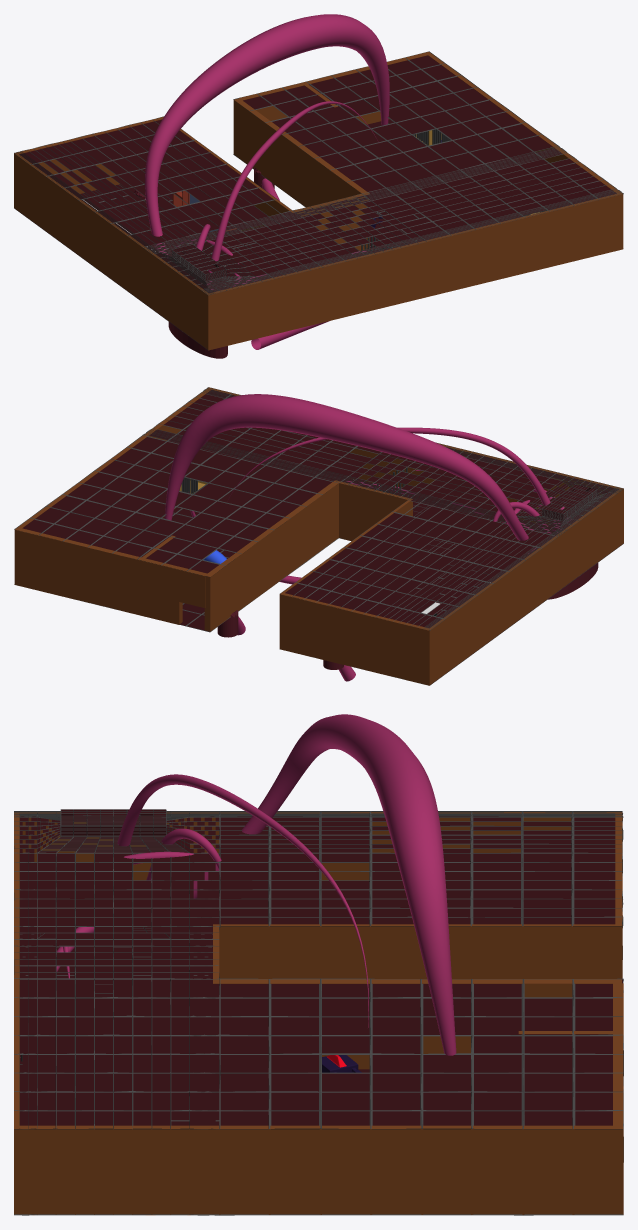
Rendered from LDJAM level 3.fbx.
3 views of the same model, one above another, from view 1: azimuth 30°, elevation 25°; view 2: azimuth 150°, elevation 25°; view 3: azimuth 270°, elevation 25° (orthographic). The views are drawn at different scales.
Parts seen in each view (by area): view 1: Plane.003, Cube.026, NurbsPath.004, Plane, NurbsPath.003, Cylinder.094, NurbsPath.006; view 2: Plane.003, Cube.026, NurbsPath.004, Plane, NurbsPath.003, Cylinder.094; view 3: Plane.003, Cube.026, NurbsPath.004, Plane, NurbsPath.003, NurbsPath.002.
Boxes of the visible parts, x1,y1,x2,y2 form: Plane.003: (14,51,623,295); Cube.026: (14,52,623,350); NurbsPath.004: (145,14,389,254); Plane: (14,119,424,349); NurbsPath.003: (205,101,378,289); Cylinder.094: (168,322,227,358); NurbsPath.006: (251,321,329,349); Plane.003: (14,387,623,630); Cube.026: (14,387,623,685); NurbsPath.004: (165,394,536,553); Plane: (14,477,623,685); NurbsPath.003: (227,427,561,535); Cylinder.094: (548,563,598,599); Plane.003: (14,809,623,1129); Cube.026: (14,812,623,1215); NurbsPath.004: (193,714,456,1055); Plane: (14,902,623,1215); NurbsPath.003: (117,774,368,1028); NurbsPath.002: (146,828,221,880).
Bounding box in the file's own units: 4651 × 2557 × 3769.
